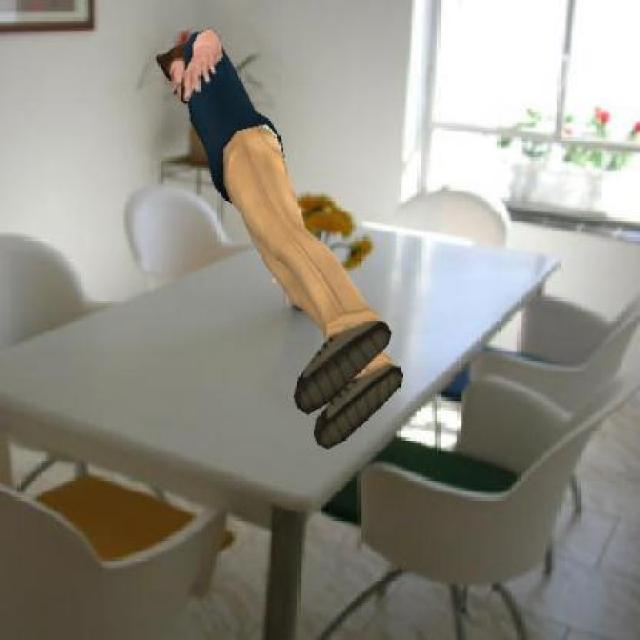Person: (154, 26, 408, 449)
